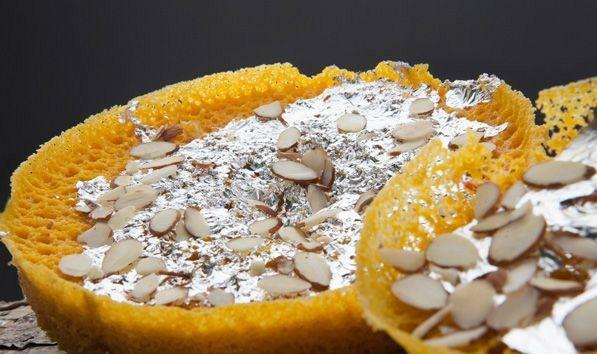Ghevar: (0, 51, 541, 354), (350, 71, 597, 354)
